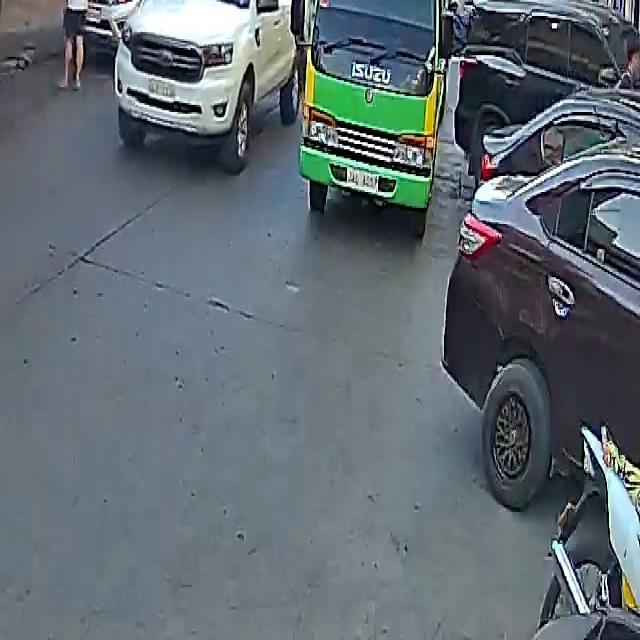car: (443, 69, 640, 530), (448, 0, 640, 190), (108, 0, 299, 169), (80, 0, 190, 39)
